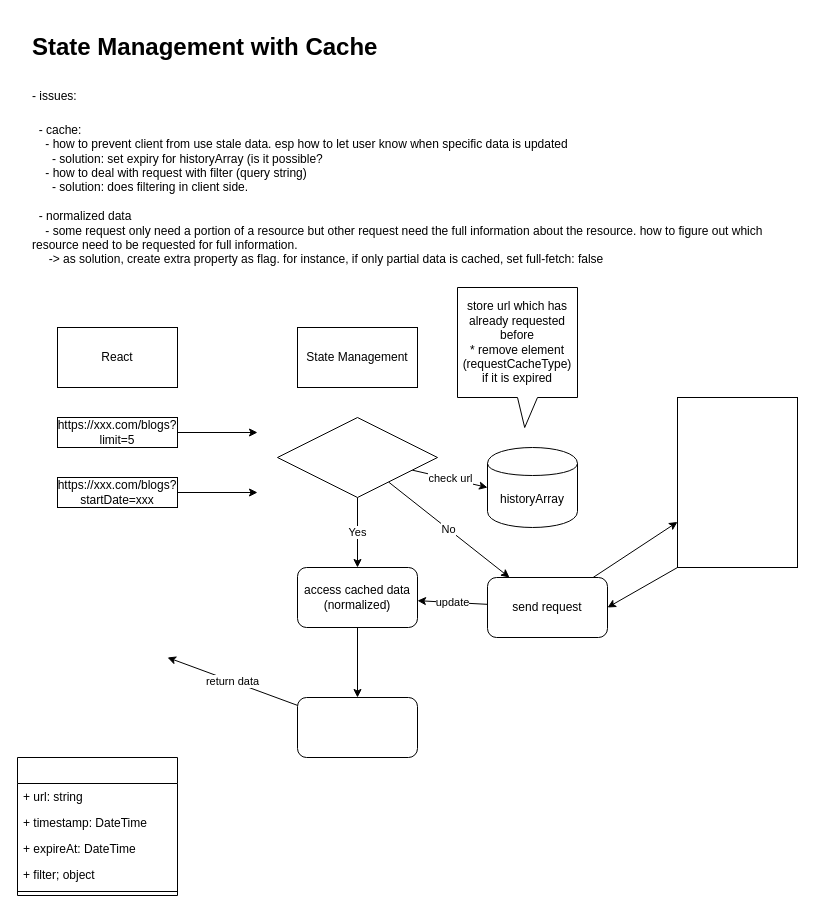
Some shapes in this 815 by 913 pixel diagram are drawn without their labels. The shapes that lost their labels are listed below. From the top down, each one's box as (x1, y1, x2, y2) in pixels, then its label:
(276, 416, 438, 498): is cached?
(676, 396, 798, 568): Server
(296, 696, 418, 758): filter data based on url query string
(16, 756, 178, 896): requestCacheType
